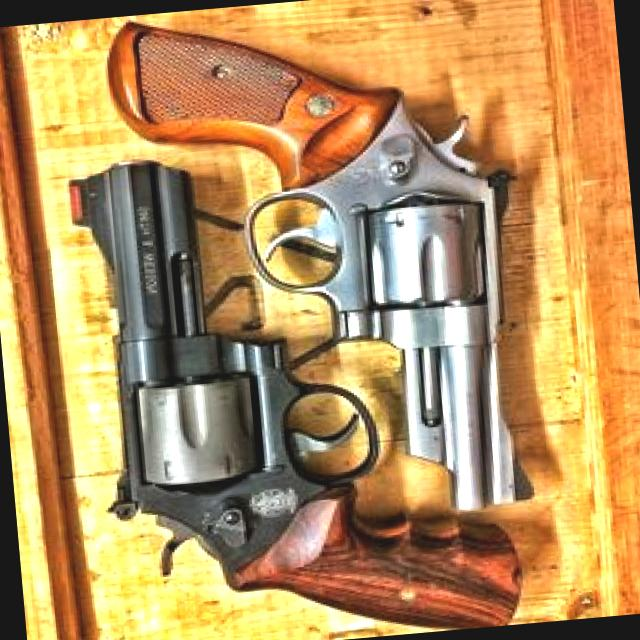revolver: (95, 0, 601, 547)
